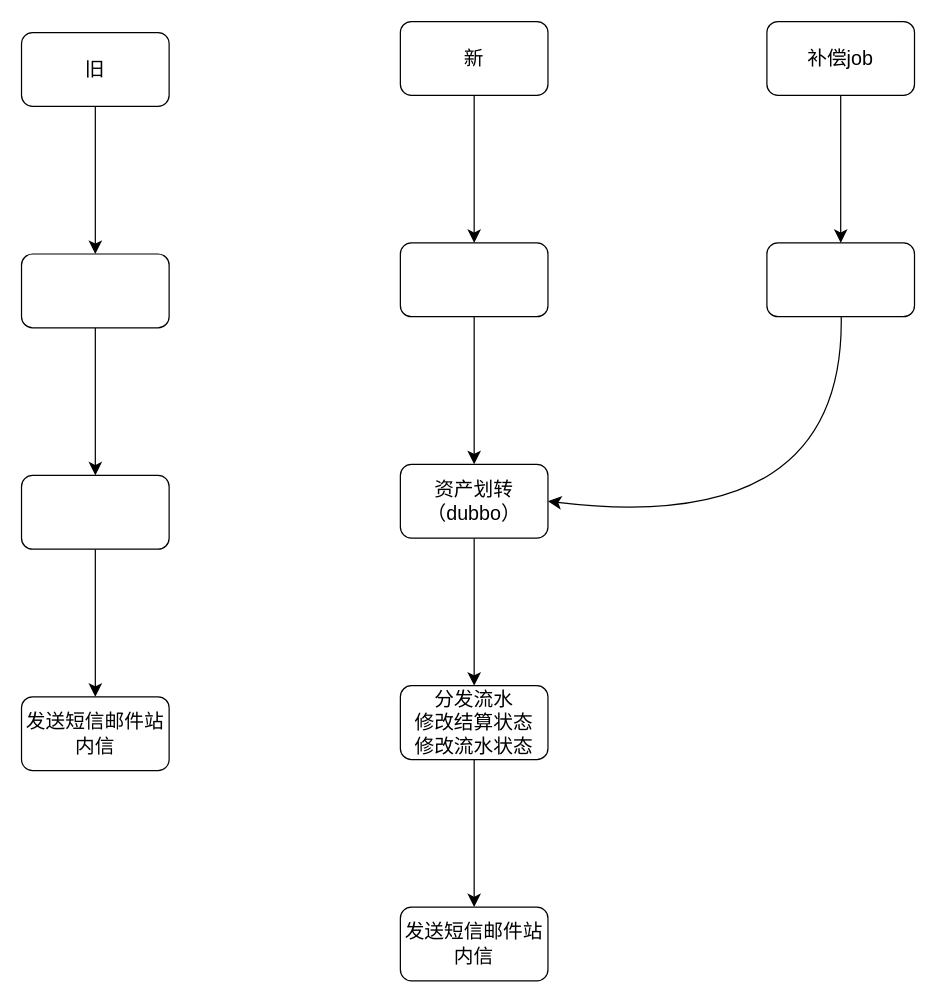
This 936x1002 diagram has some shape labels left out. Each missing label, with the centre of its shape:
增加分发流水 修改结算状态: (94,511)
查询需要补偿的活期分发流水: (840,279)
活期分发流水: (473,279)
资产划转: (94,290)
